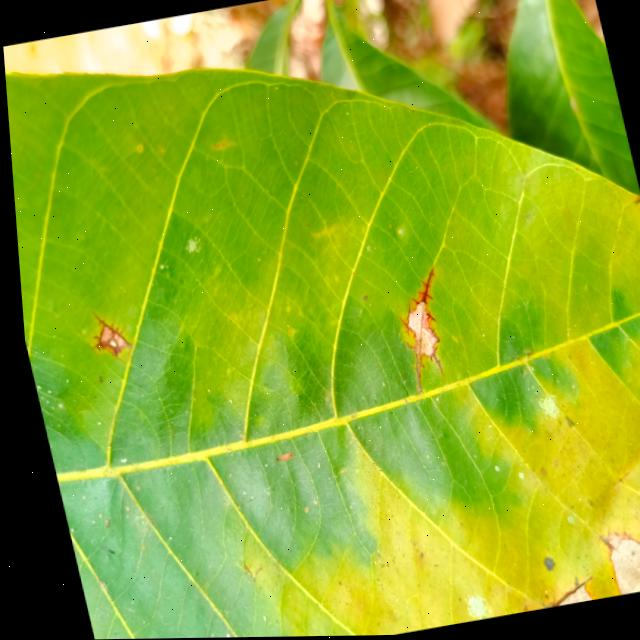Corynespora: (382, 268, 454, 395), (74, 305, 129, 366), (626, 198, 640, 240)
Leaf-Blight: (587, 535, 640, 599), (513, 584, 583, 613), (398, 303, 434, 358)
